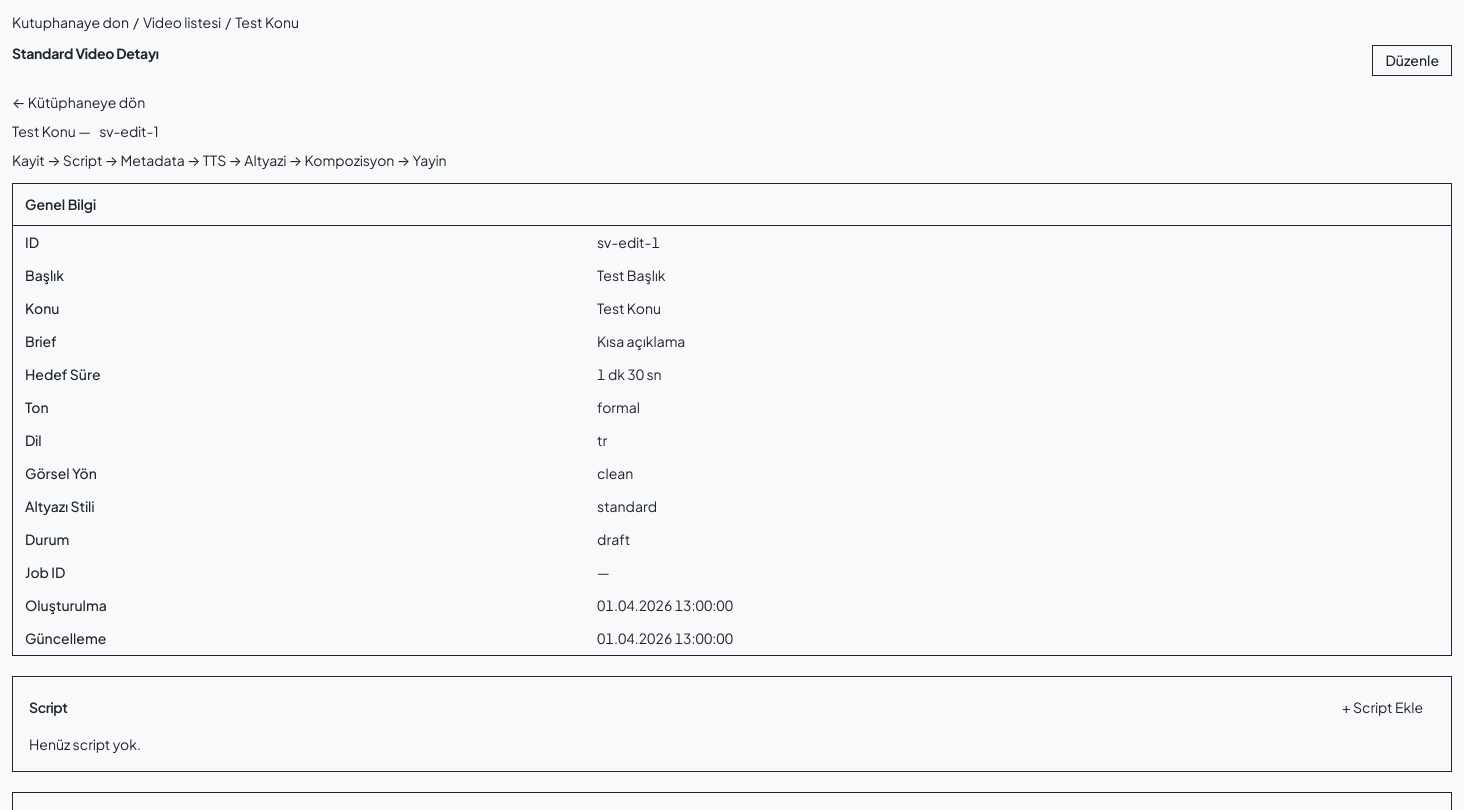
Test: Standard Video Form smoke tests › edit form is pre-filled with existing video data
Click the button "Düzenle" at (1412, 60), box [1372,45,1452,76]
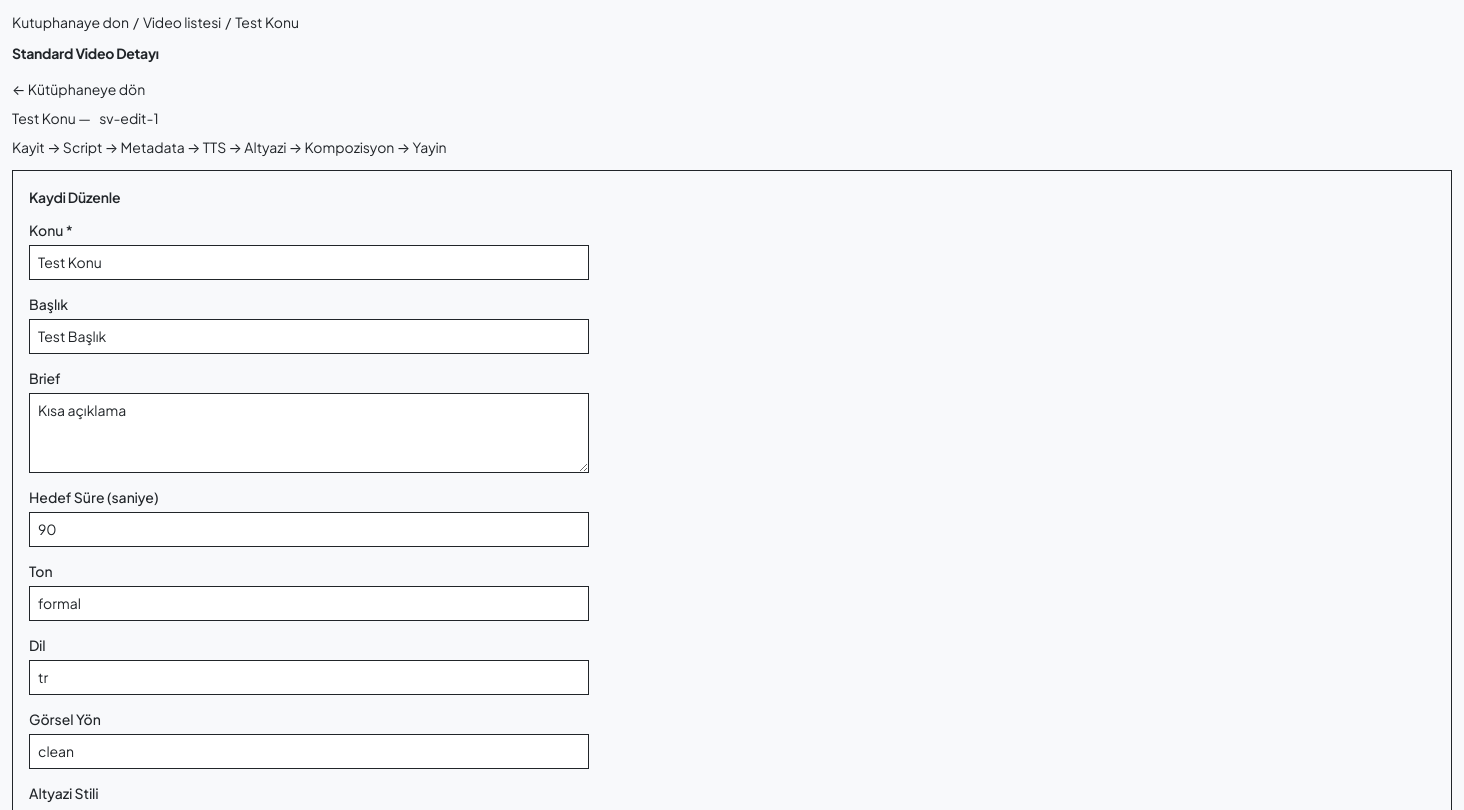
Now the 1st field with placeholder "Videonun ana konusu" holds "Test Konu", box [29,244,589,280]
